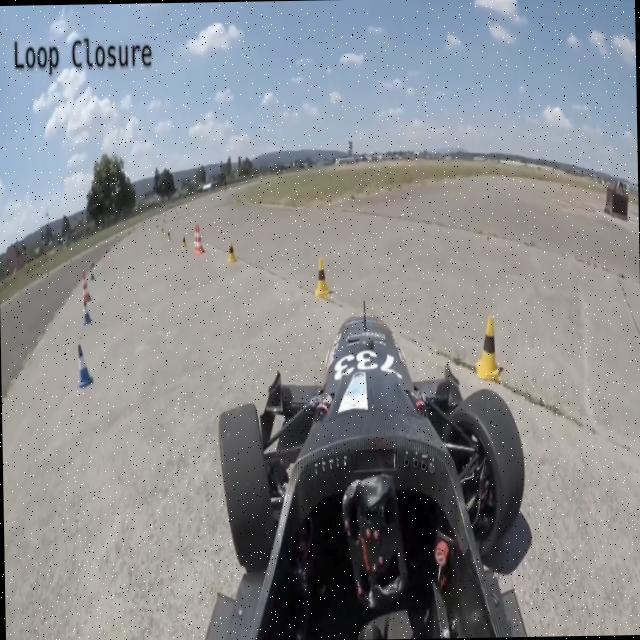blue_cone: (77, 341, 94, 389), (82, 298, 91, 326)
large_orange_cone: (82, 267, 92, 303), (196, 224, 204, 258)
yellow_cone: (474, 314, 502, 380), (314, 256, 330, 299), (226, 238, 236, 263)
